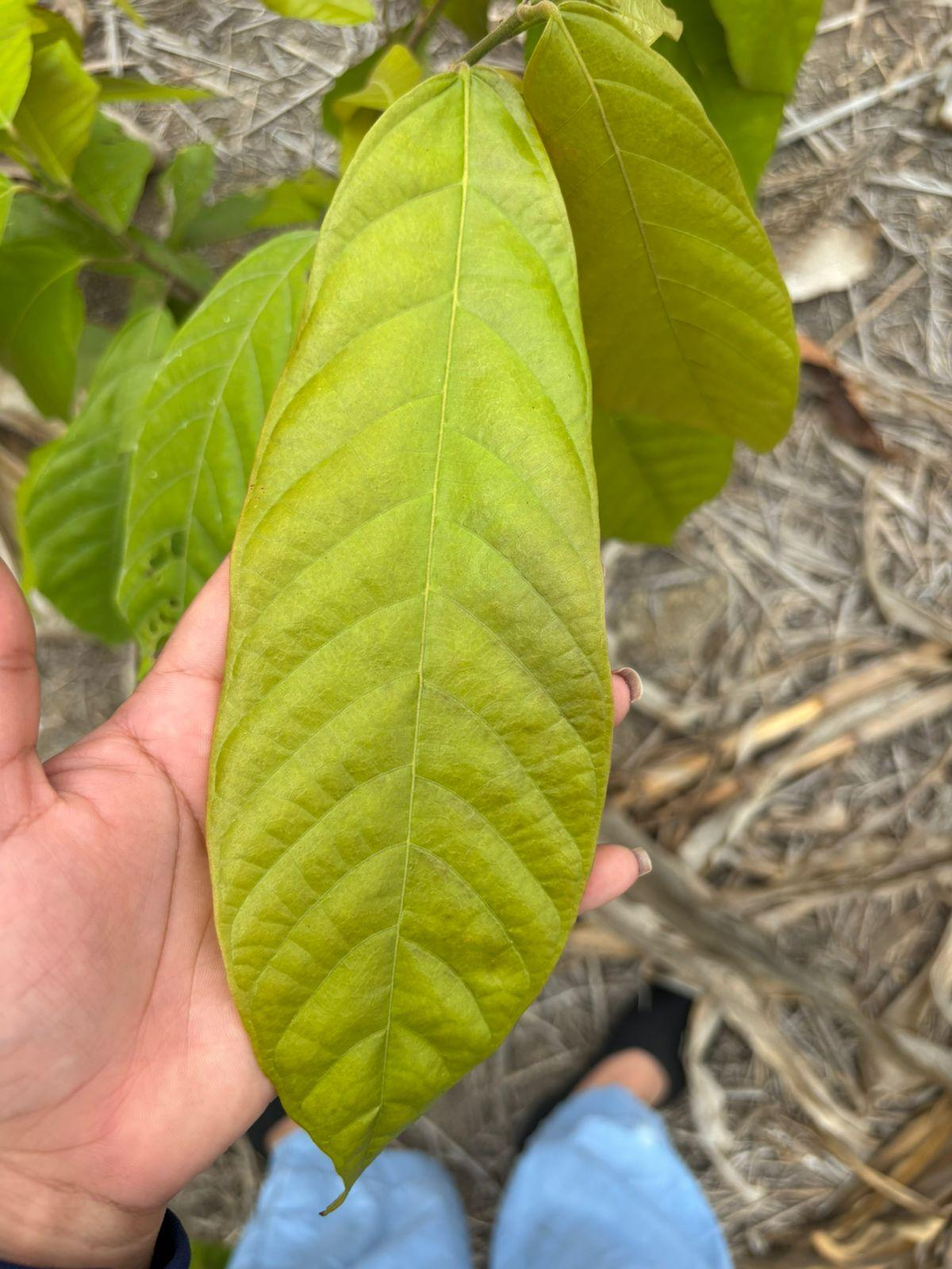deficiencia_nitrogeno: (206, 67, 612, 1206), (522, 0, 799, 542)
